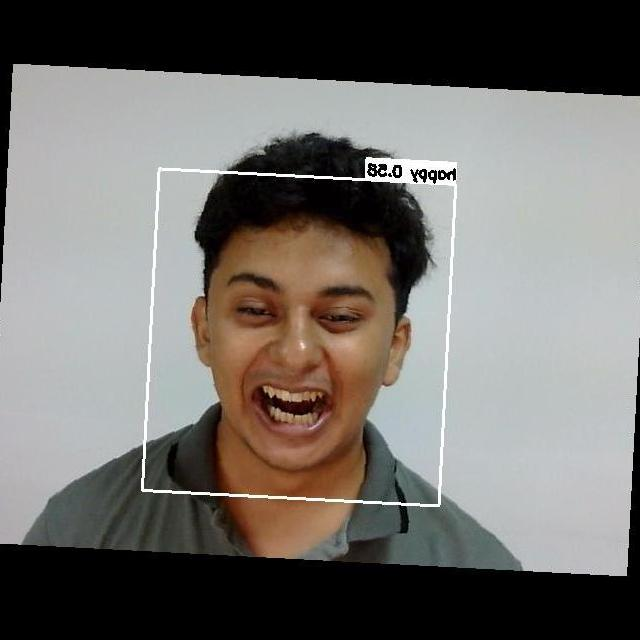Surprised: (200, 248, 403, 466)
